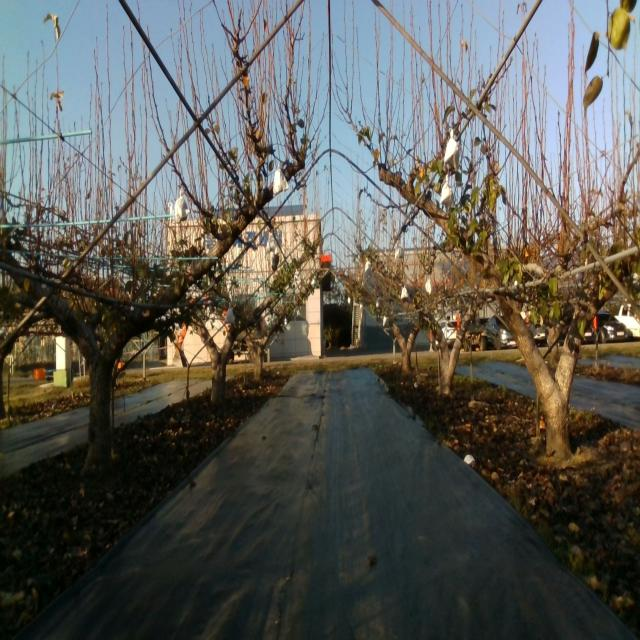pearbags: (444, 130, 459, 170), (440, 175, 456, 208), (174, 191, 190, 223), (273, 164, 288, 197), (225, 306, 235, 324)
